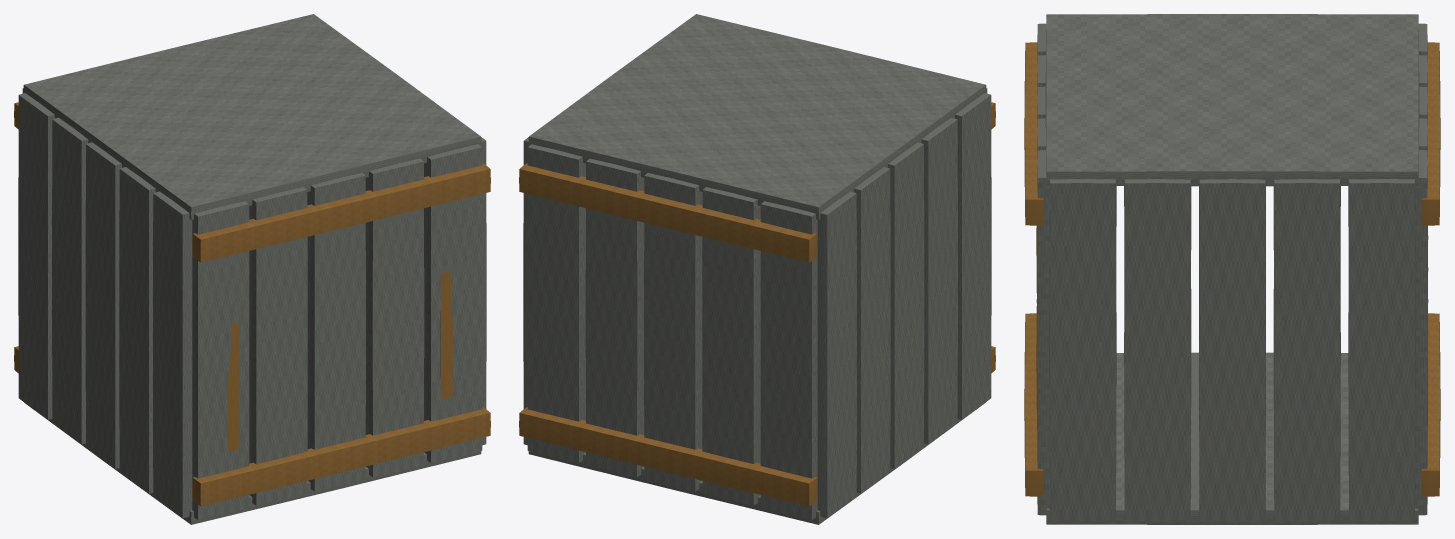
3 views of the same model, side by side, from view 1: azimuth 30°, elevation 25°; view 2: azimuth 150°, elevation 25°; view 3: azimuth 270°, elevation 25° (orthographic). The views are drawn at different scales.
Parts seen in each view (by area): view 1: stone.25, stone.14, stone.16, stone.18, stone.20, stone.12, stone.9, stone.5, stone.1, stone.7, stone.3, brass.23 (+5 smaller); view 2: stone.25, stone.8, stone.2, stone.4, stone.6, stone.0, stone.1, stone.5, stone.9, stone.3, stone.7, brass.11 (+3 smaller); view 3: stone.25, stone.13, stone.21, stone.15, stone.19, stone.17, stone.24, stone.8, stone.20, brass.11, brass.23, brass.10 (+1 smaller).
Boxes of the visible parts, x1,y1,x2,y2 form: stone.25: [23, 14, 481, 219]; stone.14: [249, 187, 307, 505]; stone.16: [307, 173, 365, 491]; stone.18: [365, 158, 424, 477]; stone.20: [424, 144, 482, 462]; stone.12: [192, 201, 249, 519]; stone.9: [153, 191, 192, 517]; stone.5: [85, 142, 121, 468]; stone.1: [18, 93, 54, 419]; stone.7: [119, 167, 155, 493]; stone.3: [52, 117, 88, 444]; brass.23: [192, 163, 490, 262]; stone.25: [528, 14, 986, 219]; stone.8: [527, 144, 585, 462]; stone.2: [702, 187, 760, 505]; stone.4: [644, 173, 702, 491]; stone.6: [585, 158, 644, 477]; stone.0: [760, 201, 817, 519]; stone.1: [817, 191, 856, 517]; stone.5: [888, 142, 924, 468]; stone.9: [955, 93, 991, 419]; stone.3: [854, 167, 890, 493]; stone.7: [921, 117, 957, 444]; brass.11: [519, 163, 817, 262]; stone.25: [1045, 14, 1419, 186]; stone.13: [1348, 179, 1415, 520]; stone.21: [1049, 179, 1116, 520]; stone.15: [1273, 179, 1340, 520]; stone.19: [1124, 179, 1191, 520]; stone.17: [1199, 179, 1265, 520]; stone.24: [1046, 352, 1418, 524]; stone.8: [1415, 150, 1428, 515]; stone.20: [1036, 150, 1049, 515]; brass.11: [1421, 42, 1440, 225]; brass.23: [1024, 42, 1043, 225]; brass.10: [1421, 313, 1440, 496].
Bounding box in the file's own units: 0.779 × 0.779 × 0.8286.
Materials: 2 (2 with a texture image).
